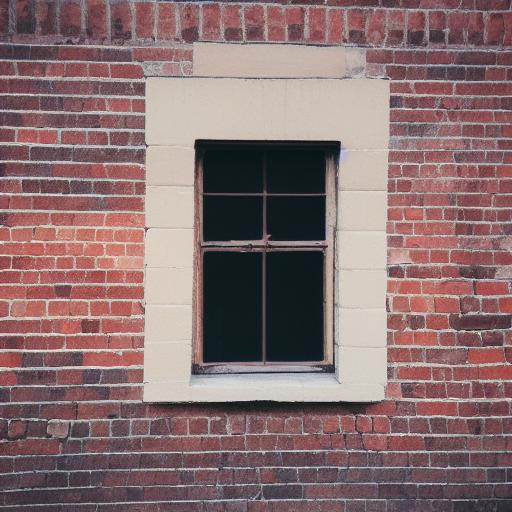Window: (143, 43, 403, 410)
